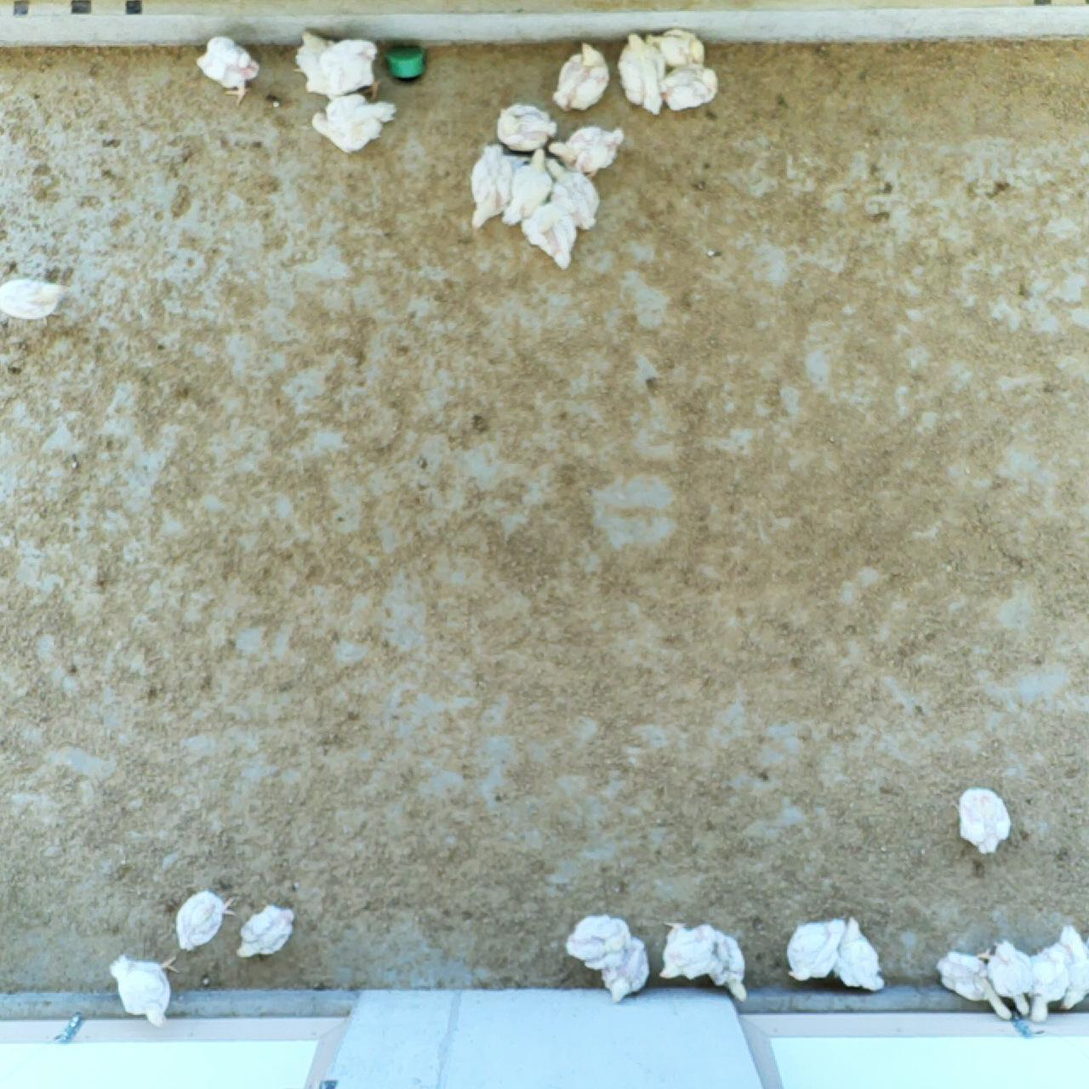chicken: (928, 949, 1014, 1024), (304, 92, 402, 157), (541, 148, 607, 237), (109, 949, 181, 1029), (187, 26, 260, 98), (613, 28, 670, 118), (837, 915, 896, 999), (696, 927, 758, 1006), (955, 776, 1014, 858), (778, 912, 847, 980), (544, 44, 613, 111), (516, 202, 581, 271), (505, 146, 554, 233), (985, 934, 1032, 1024), (1022, 937, 1069, 1027), (565, 909, 630, 974), (550, 126, 631, 178), (315, 38, 381, 99), (173, 888, 228, 955), (465, 145, 511, 224), (1, 269, 69, 322), (597, 937, 648, 1002), (661, 921, 713, 984), (289, 31, 339, 96), (494, 99, 559, 149), (1052, 927, 1089, 1014), (651, 16, 710, 70), (237, 905, 298, 956), (655, 63, 723, 108)
